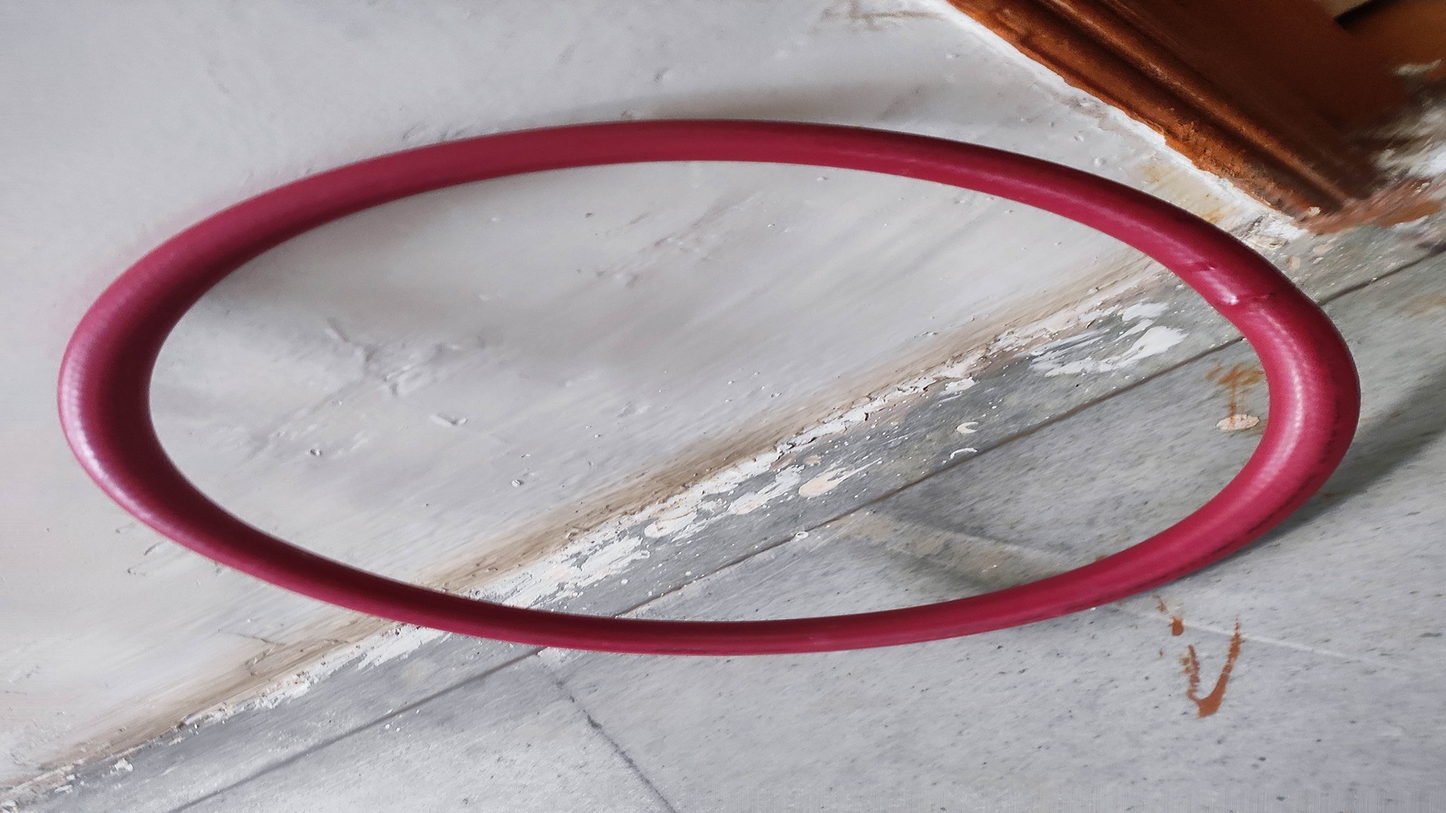Red ring: (62, 119, 1347, 656)
